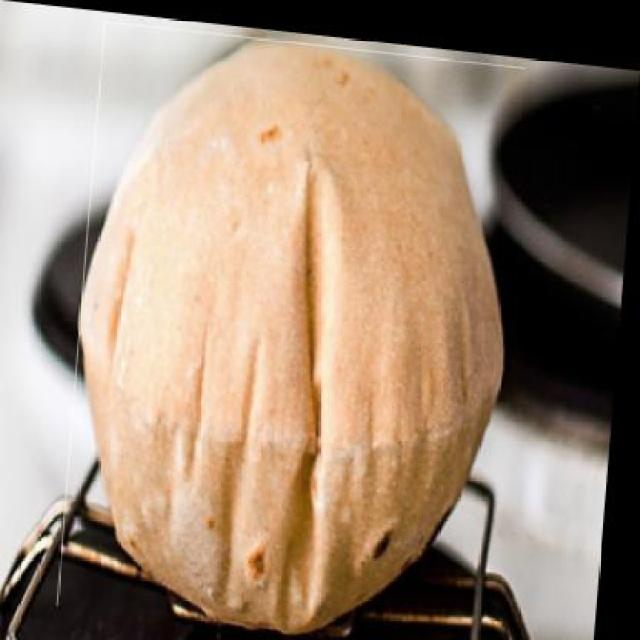chapati: (66, 17, 528, 638)
